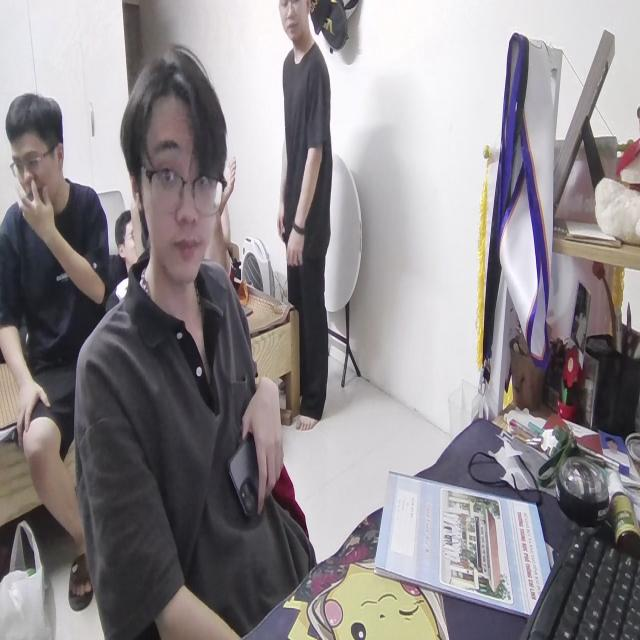book: (370, 461, 550, 624)
extra_person: (0, 97, 106, 571), (270, 1, 333, 454)
student: (71, 37, 309, 640)
